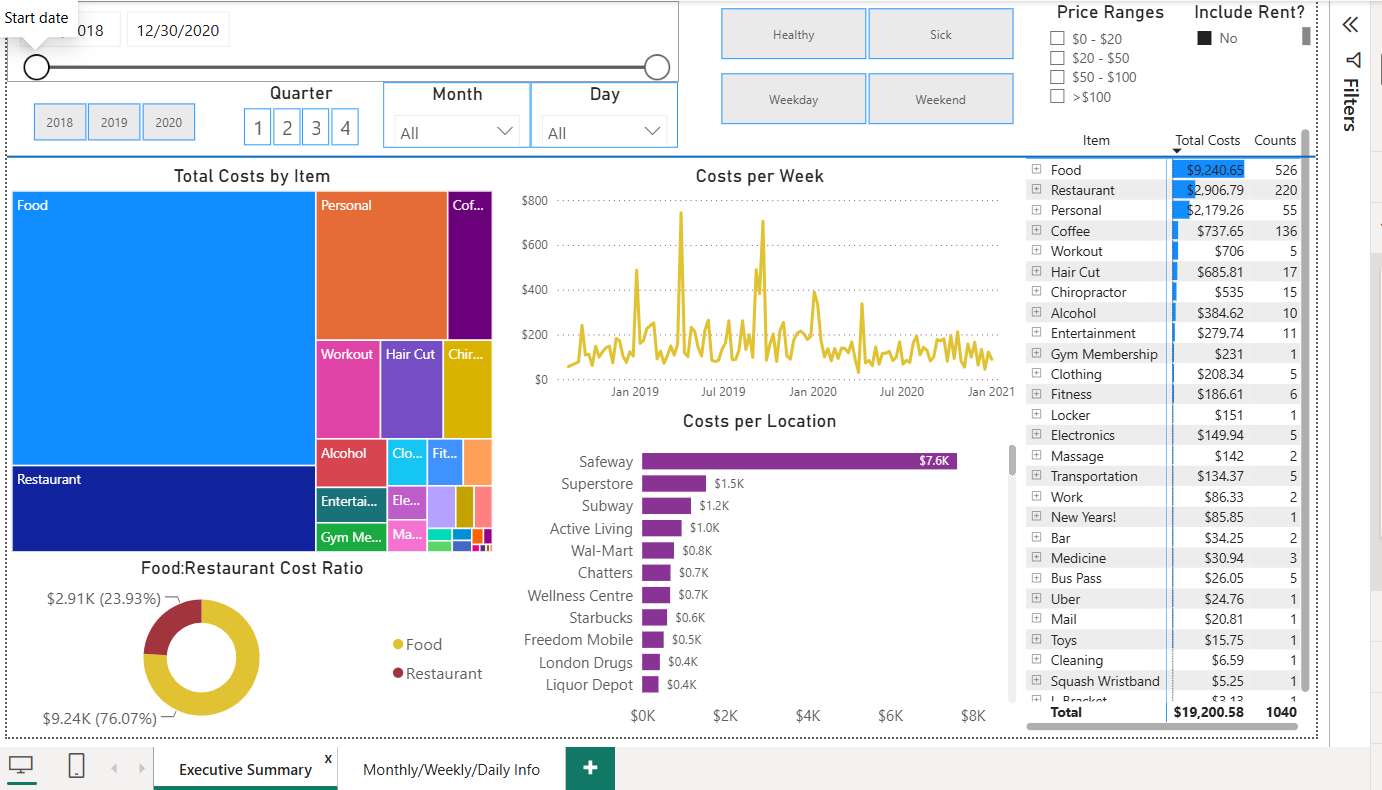

This screenshot's page, from the dashboard's own definition file:
{"tool":"powerbi","page":{"name":"Executive Summary","canvas":[1280,720],"ordinal":0},"visuals":[{"type":"slicer","fields":{"Values":["Calendar_Lookup.Date"]},"box":[0,0,656.5,79.4],"z":1000},{"type":"treemap","title":"Total Costs by Item","fields":{"Values":["Finance_Data.Total_Costs"],"Group":["Item_Lookup.Item"]},"box":[0,160,480,384],"z":2000},{"type":"slicer","title":"Include Rent?","fields":{"Values":["Item_Lookup.Item(NoRent)"]},"box":[1152,0,128,48],"z":3000},{"type":"barChart","title":"Costs per Location","fields":{"Y":["Sum(Finance_Data.COST)"],"Category":["Finance_Data.LOCATION"]},"box":[480,400,512,320],"z":4000},{"type":"lineChart","title":"Costs per Week","fields":{"Y":["Sum(Finance_Data.COST)"],"Category":["Calendar_Lookup.End_of_Week"]},"box":[480,160,512,240],"z":5000},{"type":"donutChart","title":"Food:Restaurant Cost Ratio","fields":{"Y":["Sum(Finance_Data.COST)"],"Category":["Finance_Data.Food(Boolean)"]},"box":[0,544,480,176],"z":6000},{"type":"pivotTable","fields":{"Rows":["Item_Lookup.Item","Finance_Data.LOCATION","Finance_Data.Price_Ranges"],"Values":["Finance_Data.Total_Costs","CountNonNull(Finance_Data.ITEM)"]},"box":[992.1,120.1,287.9,599.6],"z":7000},{"type":"slicer","title":"Day","fields":{"Values":["Calendar_Lookup.Day_Name"]},"box":[512,80,144,64],"z":8000},{"type":"slicer","title":"Month","fields":{"Values":["Calendar_Lookup.Month_Name"]},"box":[368,80,144,64],"z":9000},{"type":"slicer","title":"Quarter","fields":{"Values":["Calendar_Lookup.Quarter"]},"box":[208,80,160,64],"z":10000},{"type":"slicer","fields":{"Values":["Finance_Data.Sick(Boolean)"]},"box":[672,0,336,64],"z":11000},{"type":"slicer","title":"Price Ranges","fields":{"Values":["Finance_Data.Price_Ranges"]},"box":[1008,0,144,112],"z":12000},{"type":"slicer","fields":{"Values":["Calendar_Lookup.Year"]},"box":[0,80,208,64],"z":13000},{"type":"slicer","fields":{"Values":["Calendar_Lookup.Weekday"]},"box":[672,64,336,64],"z":14000},{"type":"shape","box":[0,144,1280,16],"z":14500}]}

Visuals, with their boxes on the page's 1280x720 design canvas (x1, y1, x2, y2). These are canvas units, not pixel positions in the 1382x790 screenshot, which may show the page scaled, cropped or inside an application window:
slicer - Calendar_Lookup.Date: [left=0, top=0, right=656, bottom=79]
"Total Costs by Item" treemap: [left=0, top=160, right=480, bottom=544]
"Include Rent?" slicer: [left=1152, top=0, right=1280, bottom=48]
"Costs per Location" barChart: [left=480, top=400, right=992, bottom=720]
"Costs per Week" lineChart: [left=480, top=160, right=992, bottom=400]
"Food:Restaurant Cost Ratio" donutChart: [left=0, top=544, right=480, bottom=720]
pivotTable - Item_Lookup.Item x Finance_Data.LOCATION: [left=992, top=120, right=1280, bottom=720]
"Day" slicer: [left=512, top=80, right=656, bottom=144]
"Month" slicer: [left=368, top=80, right=512, bottom=144]
"Quarter" slicer: [left=208, top=80, right=368, bottom=144]
slicer - Finance_Data.Sick(Boolean): [left=672, top=0, right=1008, bottom=64]
"Price Ranges" slicer: [left=1008, top=0, right=1152, bottom=112]
slicer - Calendar_Lookup.Year: [left=0, top=80, right=208, bottom=144]
slicer - Calendar_Lookup.Weekday: [left=672, top=64, right=1008, bottom=128]
shape: [left=0, top=144, right=1280, bottom=160]
